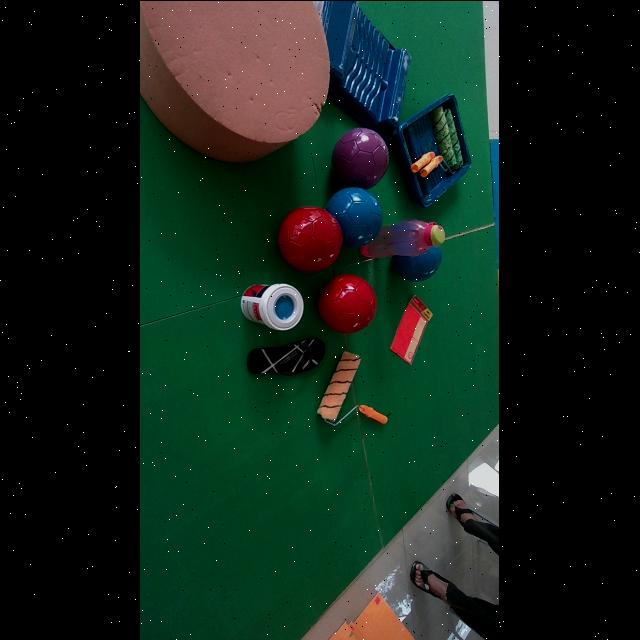B: (328, 187, 383, 248), (392, 245, 443, 280)
P: (332, 127, 390, 188)
R: (278, 205, 343, 272), (319, 274, 378, 333)
